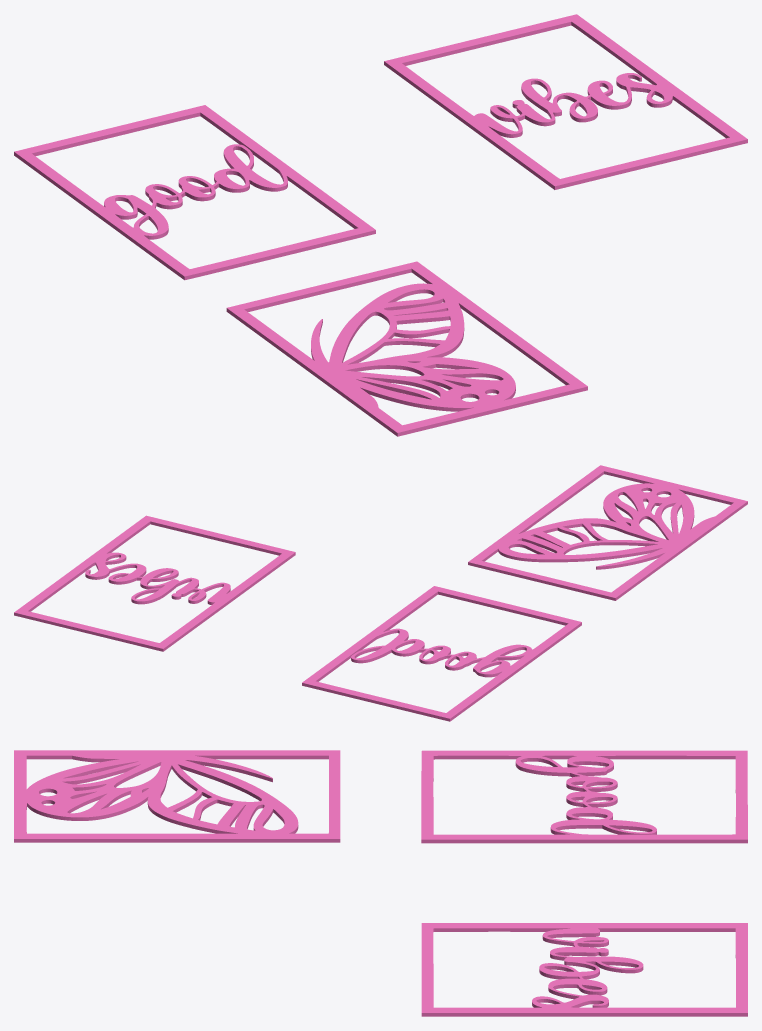
File: goodvibes-triptico.glb
The picture shows the model from 3 angles, top to bottom: view 1: azimuth 30°, elevation 25°; view 2: azimuth 150°, elevation 25°; view 3: azimuth 270°, elevation 25°; orthographic projection. The views are drawn at different scales.
Parts seen in each view (by area): view 1: Node12, Node8, Node4; view 2: Node12, Node8, Node4; view 3: Node12, Node4, Node8.
Part boxes in pixels (<box>): Node12: <box>226,261,587,436</box>; Node8: <box>384,14,747,189</box>; Node4: <box>14,105,375,280</box>; Node12: <box>468,465,747,600</box>; Node8: <box>14,515,295,651</box>; Node4: <box>302,586,581,721</box>; Node12: <box>14,750,340,842</box>; Node4: <box>421,750,747,843</box>; Node8: <box>421,923,747,1016</box>.
Bounding box in the file's own units: 467 × 3 × 551.
